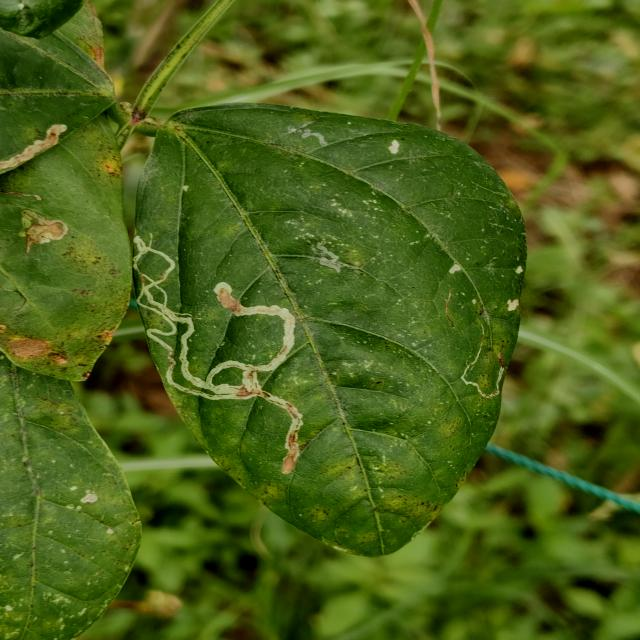sitaw-aphid-high: (0, 358, 141, 640)
sitaw-aphid-low: (134, 103, 526, 557), (0, 30, 132, 391)
